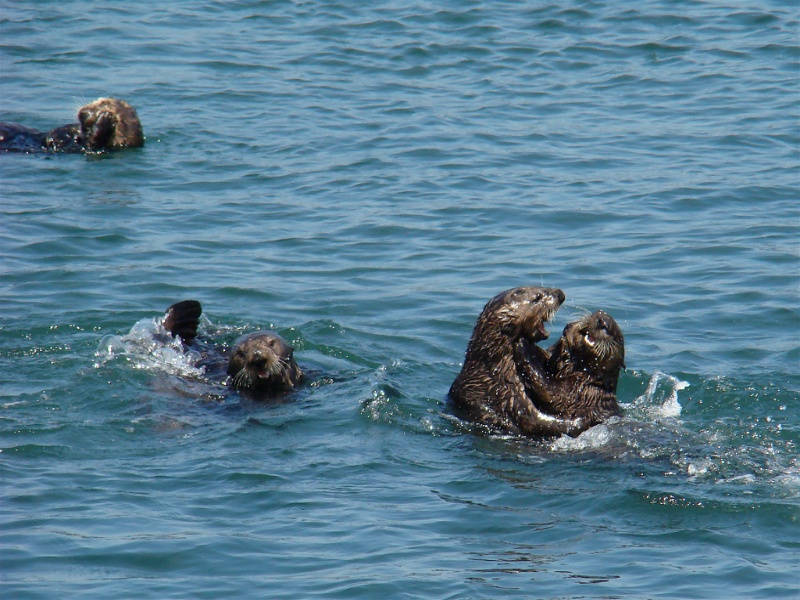minkish: (3, 91, 158, 169), (223, 330, 304, 401), (485, 275, 568, 344), (562, 305, 629, 374)
